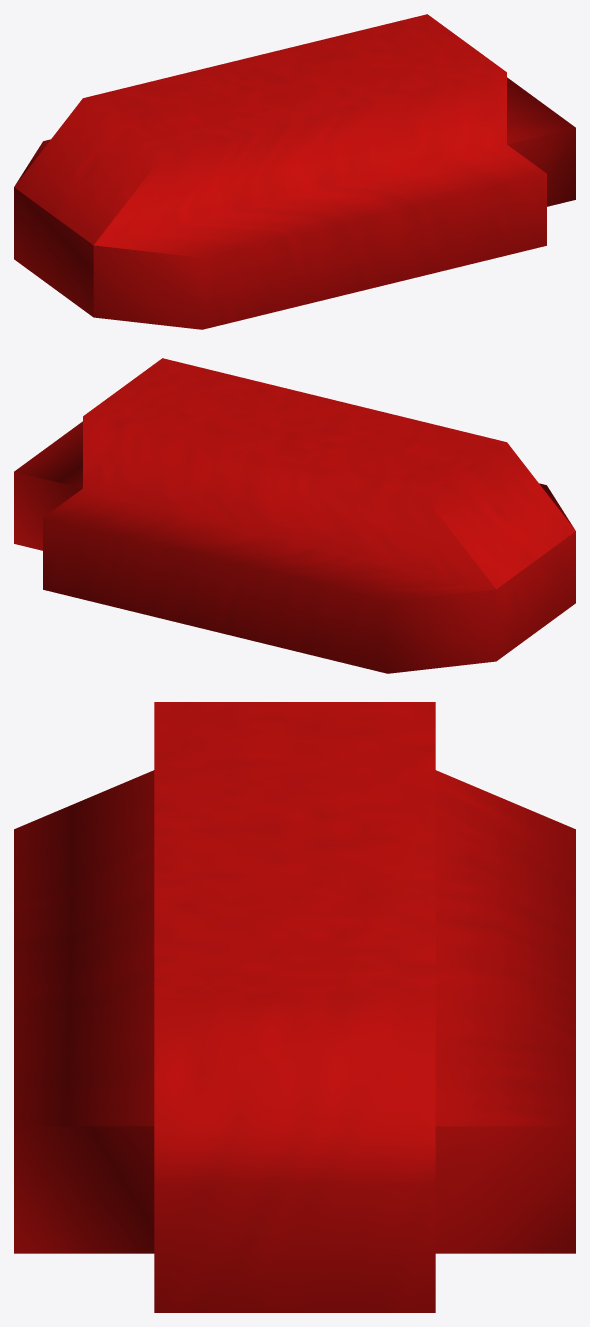
The picture shows the model from 3 angles, top to bottom: view 1: azimuth 30°, elevation 25°; view 2: azimuth 150°, elevation 25°; view 3: azimuth 270°, elevation 25°; orthographic projection. The views are drawn at different scales.
Size of the model in its own units: 0.56 by 0.16 by 0.32.
1 material, 1 textured.
